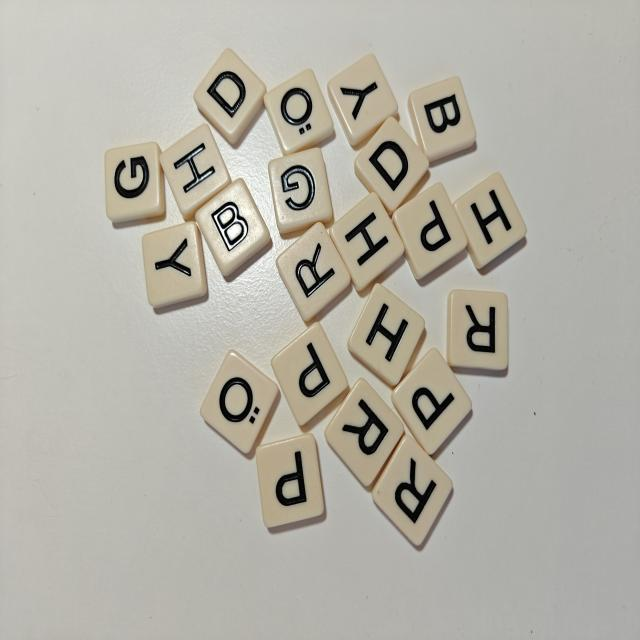b: (195, 179, 270, 276), (408, 77, 476, 162)
d: (355, 117, 428, 214), (194, 49, 266, 144)
g: (268, 149, 332, 234), (105, 142, 165, 222)
h: (348, 284, 425, 386), (329, 193, 404, 291), (453, 173, 527, 269), (160, 124, 231, 219)
o_dot: (200, 350, 278, 453), (263, 69, 333, 155)
p: (392, 348, 472, 454), (271, 322, 348, 425), (392, 183, 467, 279), (256, 433, 324, 527)
r: (372, 435, 452, 545), (325, 378, 404, 485), (276, 222, 350, 321), (447, 290, 508, 370)
y: (328, 54, 398, 146), (142, 221, 207, 308)
